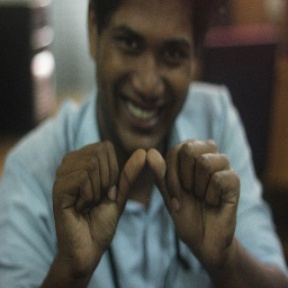A: (76, 138, 223, 245)
